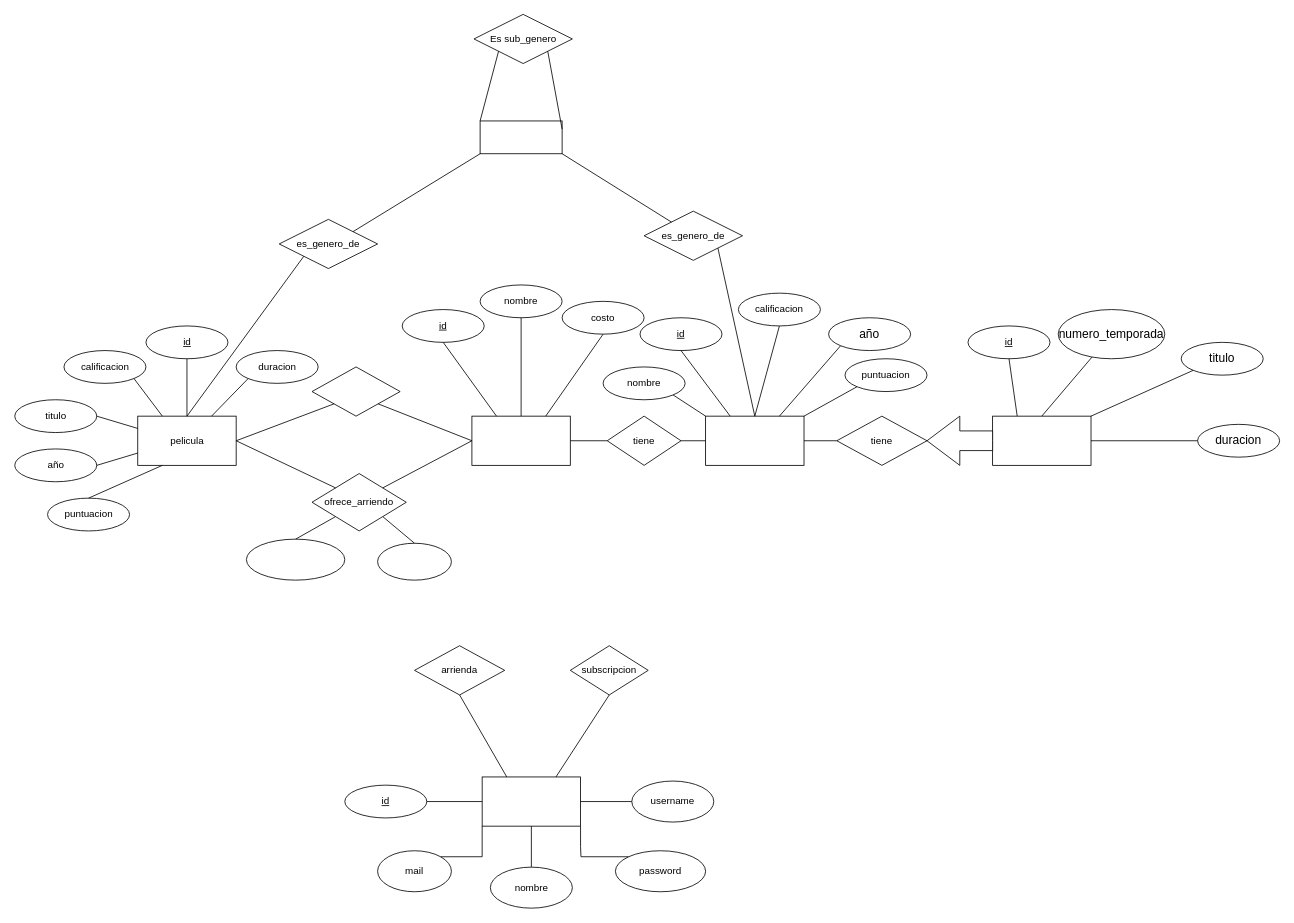
This 1294x923 diagram has some shape labels left out. The box of each missing label's shape, as (x1, y1, x2, y2) in pixels:
capitulo: (992, 415, 1091, 465)
duracion_arriendo: (246, 538, 345, 580)
genero: (479, 120, 562, 154)
ofrece_plan: (311, 366, 400, 416)
precio: (377, 542, 451, 580)
proveedor: (471, 415, 570, 465)
serie: (705, 415, 804, 465)
usuario: (481, 776, 581, 826)
